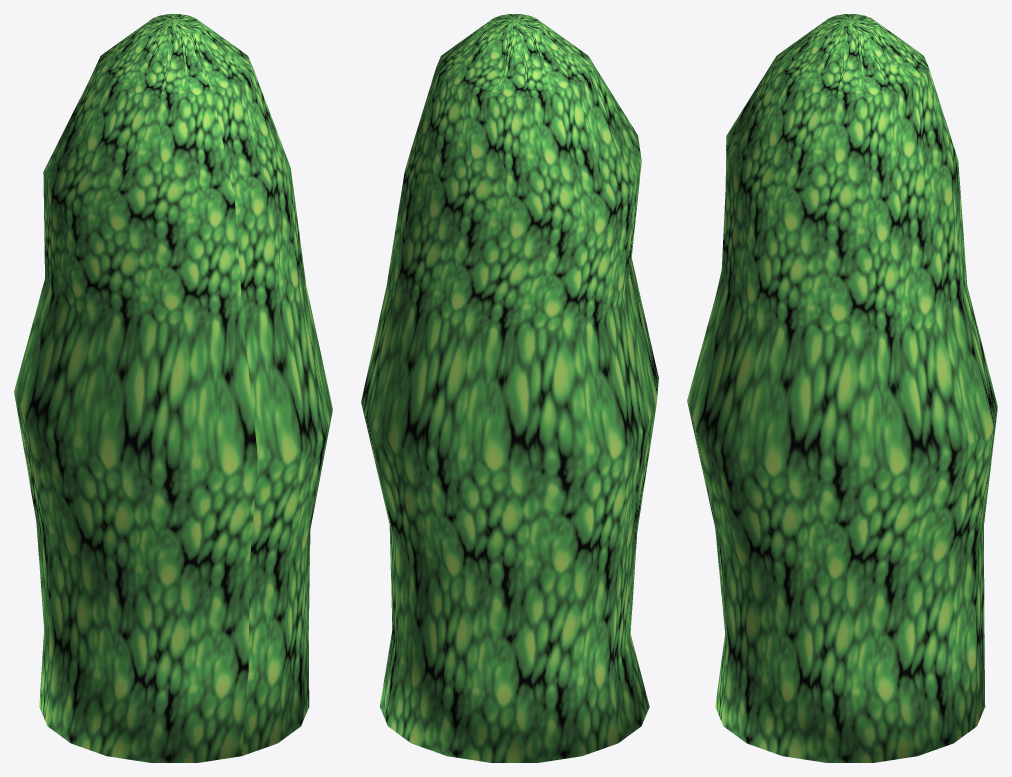
The model's file is GAMEJAMPUFFER - Bush 5.fbx.
The picture shows the model from 3 angles, left to right: view 1: azimuth 30°, elevation 25°; view 2: azimuth 150°, elevation 25°; view 3: azimuth 270°, elevation 25°; orthographic projection.
Visible parts, largest first — view 1: Beach Ball.005; view 2: Beach Ball.005; view 3: Beach Ball.005.
Part boxes in pixels (x1,y1,x2,y2): Beach Ball.005: (14,14,332,762); Beach Ball.005: (361,14,658,762); Beach Ball.005: (687,14,997,762).
Bounding box in the file's own units: 236 × 608 × 243.
1 material, 1 textured.
